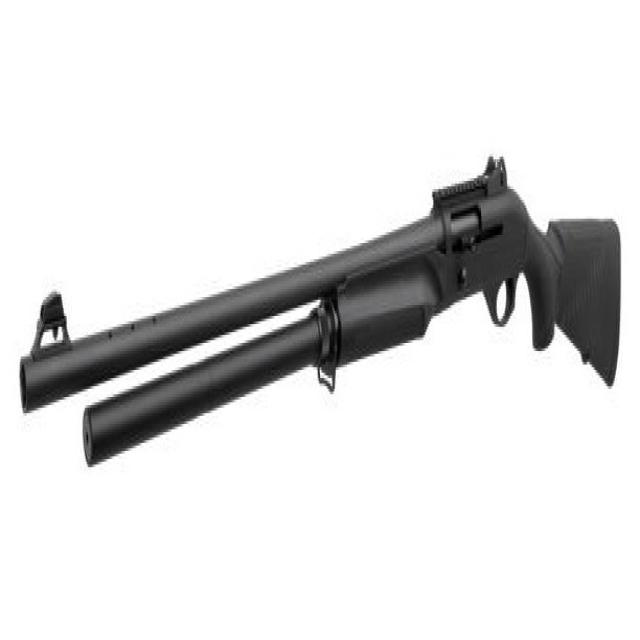rifle: (19, 143, 629, 511)
